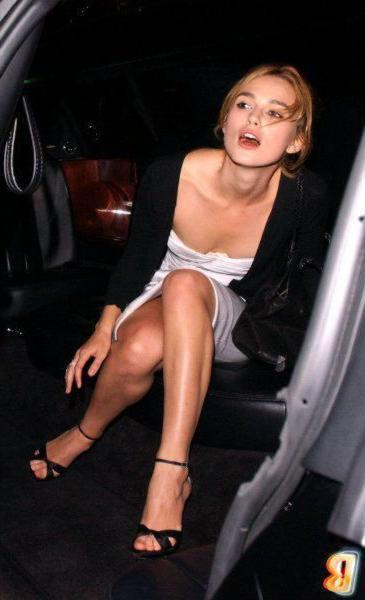Drunk: (225, 75, 297, 167)
